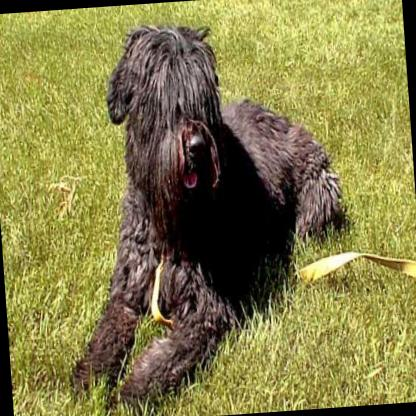Bouvier_des_Flandres: (41, 9, 361, 416)
